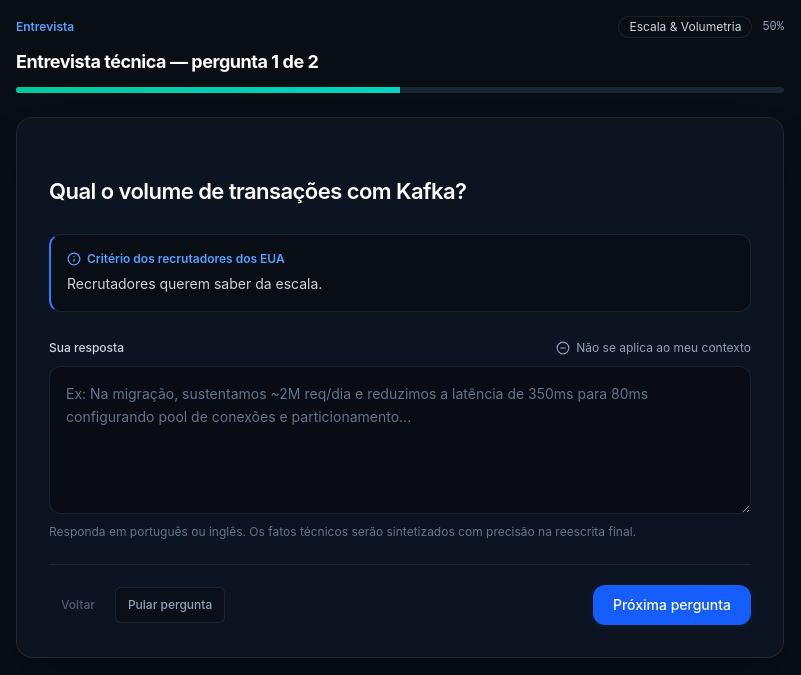
Test: InterviewView Component › allows answering and moving to next question
Replace the text in the text box with placeholder "Ex: Na migração, sustentamos ~2M req/dia" with "Processamos mais de 50M de eventos/dia com Kafka" at [400, 440], box [49,366,751,514]
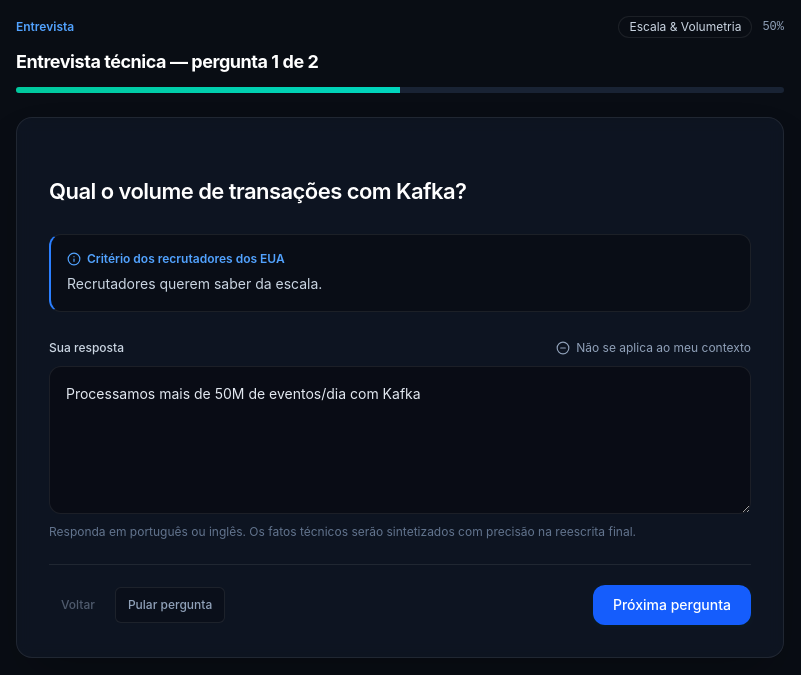
Click the button "Próxima pergunta" at [672, 605], box [593,585,751,625]
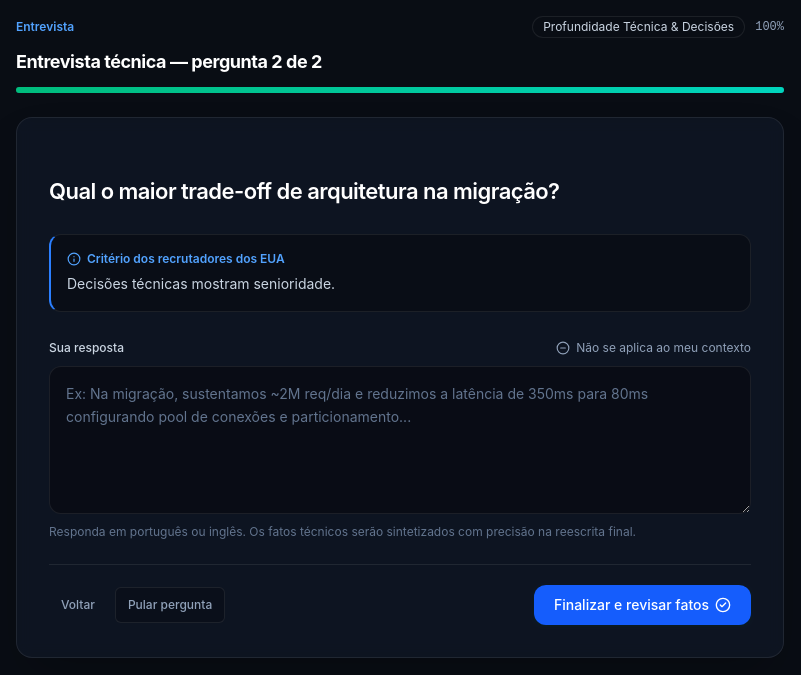
Result: the heading "Entrevista técnica — pergunta 2 de 2" is shown at [16,51,322,72]
Result: the heading "Qual o maior trade-off de arquitetura na migração?" is shown at [49,178,560,204]
